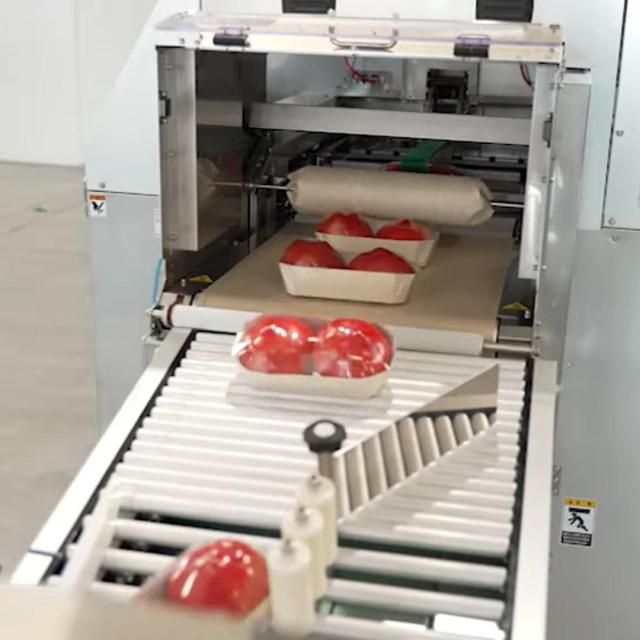food: (220, 303, 398, 417), (114, 526, 277, 637), (278, 232, 424, 310)
